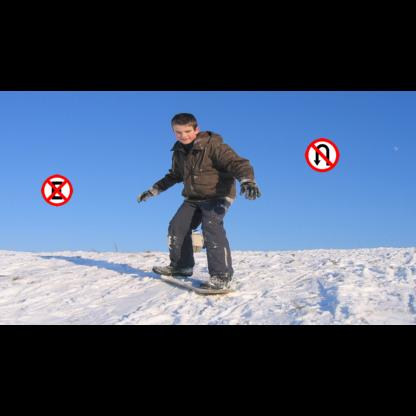R-5a: (305, 138, 339, 172)
R-6c: (41, 174, 73, 206)
